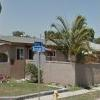Palm tree: (46, 9, 91, 63)
